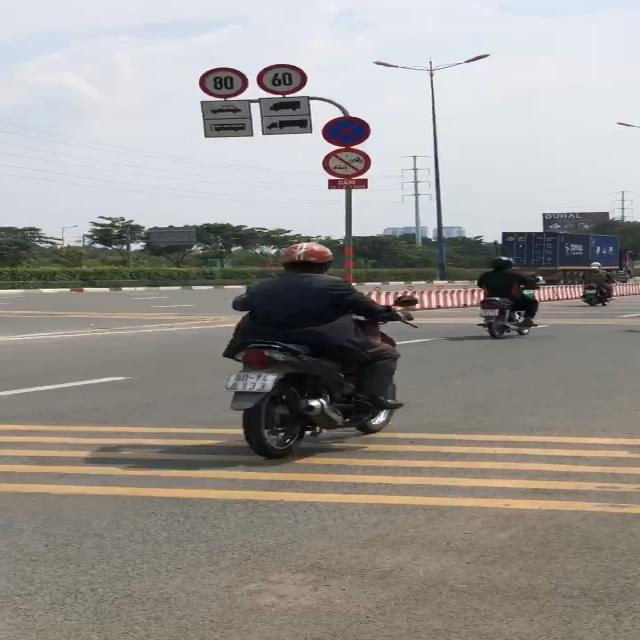Bien bao cam dung xe va do xe: (317, 111, 381, 148)
Bien bao toc do toi da cho phep: (196, 64, 252, 100), (255, 63, 313, 97)
